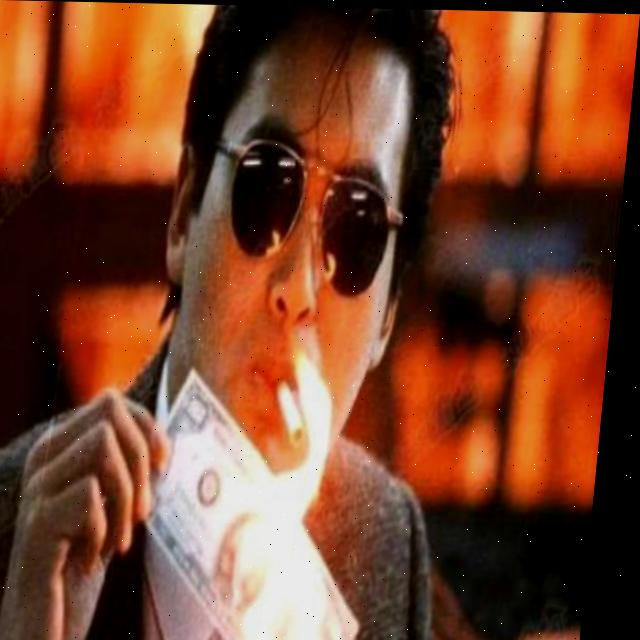cigarette: (278, 378, 316, 449)
